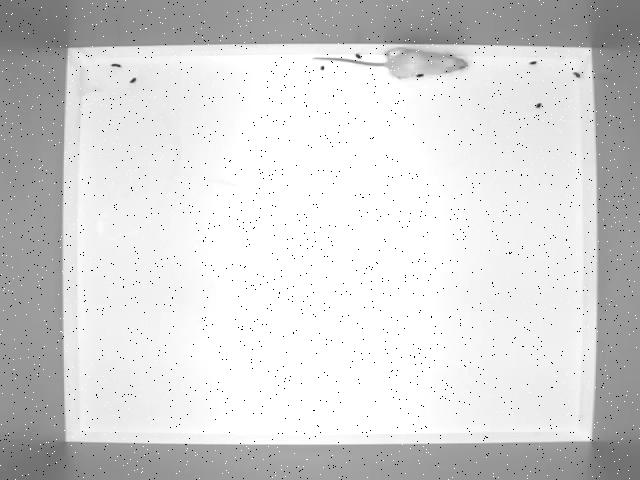Tikus: (309, 45, 471, 82)
